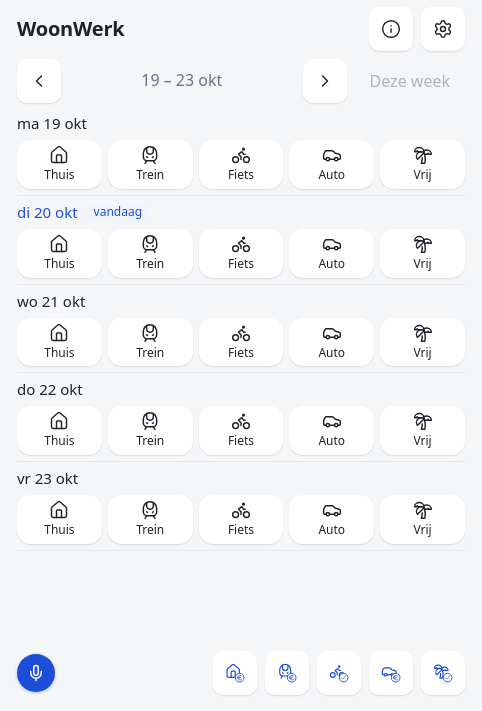
Scenario: AC38: periode van de overzichten › begint de dag na de laatste declaratie, of de eerste werkdag daarna
Click the button named "Overzicht thuiswerkvergoeding" at (235, 673), box left=213, top=651, right=257, bottom=695
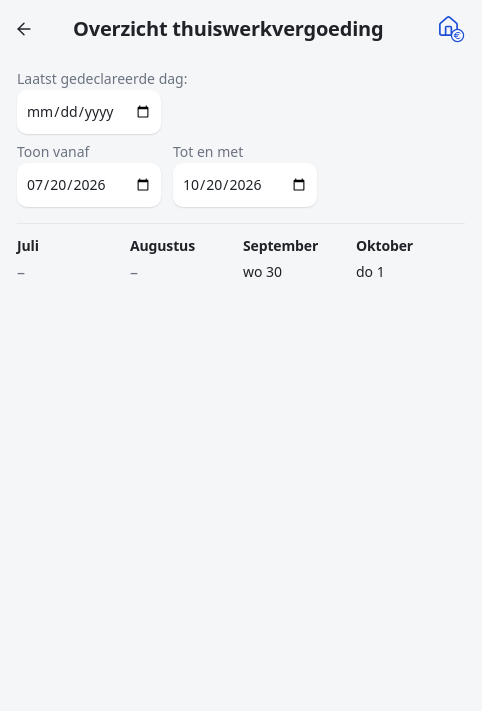
Type "2026-09-30" into the date field labelled "Laatst gedeclareerde dag:" at (89, 112), box left=17, top=90, right=161, bottom=134
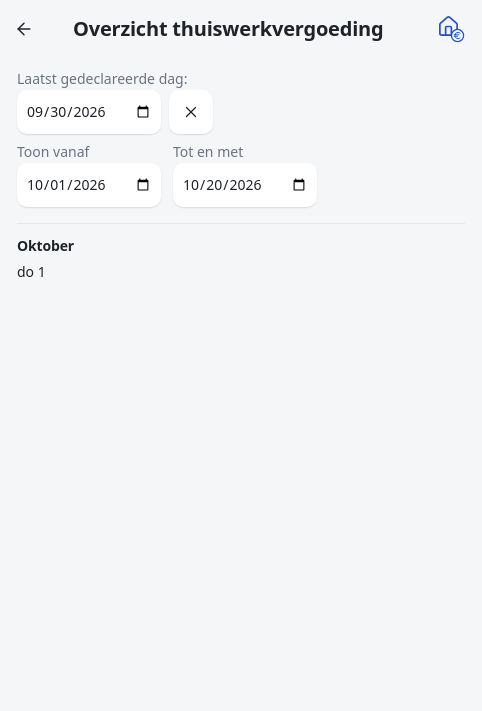
expect the date field labelled "Tot en met" holds "2026-10-20": met, box left=173, top=163, right=317, bottom=207
expect the date field labelled "Toon vanaf" holds "2026-10-01": met, box left=17, top=163, right=161, bottom=207
expect the list items read "do 1", in this order: met, box left=17, top=262, right=46, bottom=281
Type "2026-10-16" into the date field labelled "Laatst gedeclareerde dag:" at (89, 112), box left=17, top=90, right=161, bottom=134
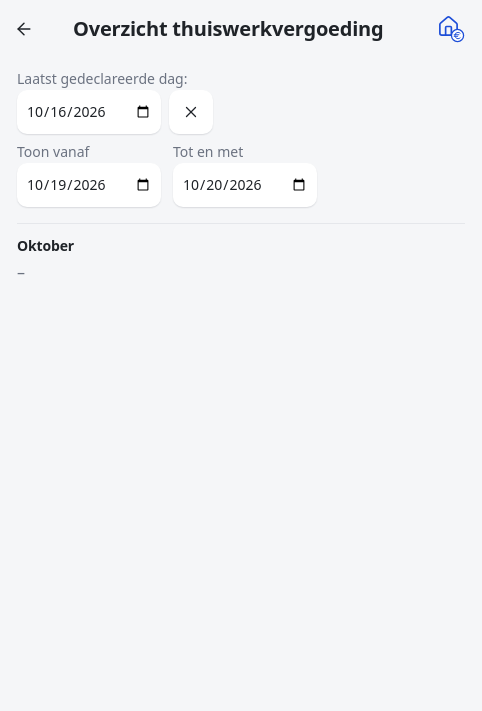
expect the date field labelled "Toon vanaf" holds "2026-10-19": met, box left=17, top=163, right=161, bottom=207
